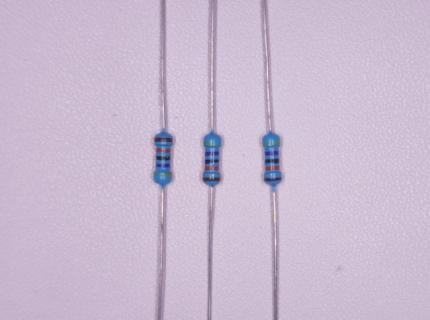Black band: (156, 156, 170, 160), (205, 160, 219, 164), (265, 159, 279, 163)
Brown band: (264, 177, 281, 182), (154, 138, 173, 142), (202, 177, 220, 181)
Orange band: (205, 166, 219, 171), (266, 166, 280, 171), (156, 148, 171, 152)
Violet band: (156, 163, 171, 168), (265, 151, 279, 156), (205, 151, 219, 156)
Yellow band: (153, 173, 172, 177), (262, 142, 280, 146), (203, 142, 221, 145)
